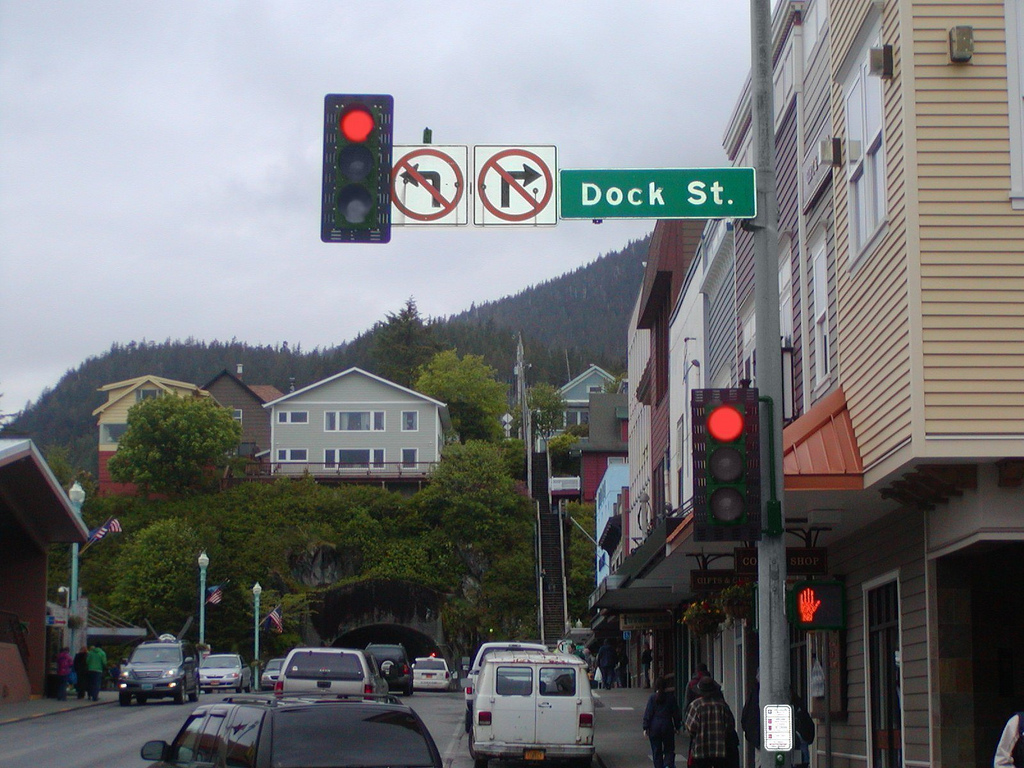traffic_light: (331, 98, 381, 232), (702, 401, 749, 527)
